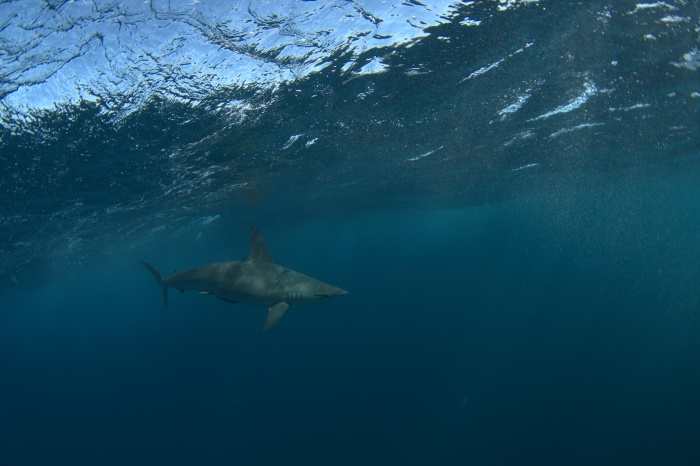Hammer: (101, 224, 367, 345)
